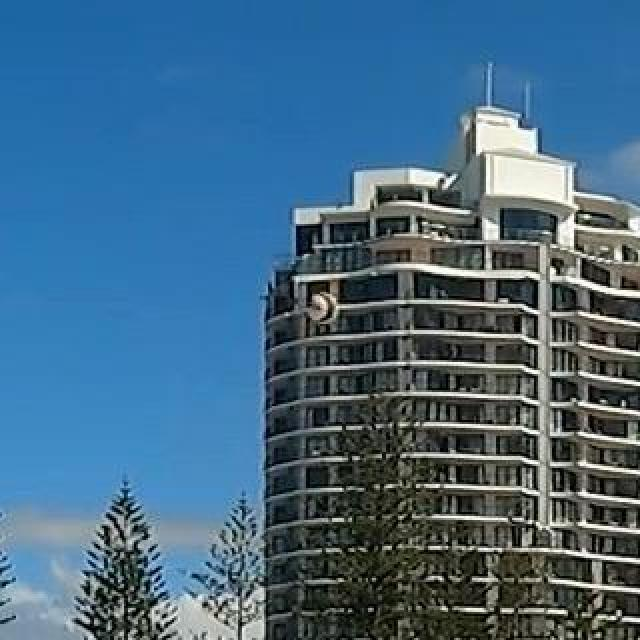volleyball: (313, 293, 339, 321)
